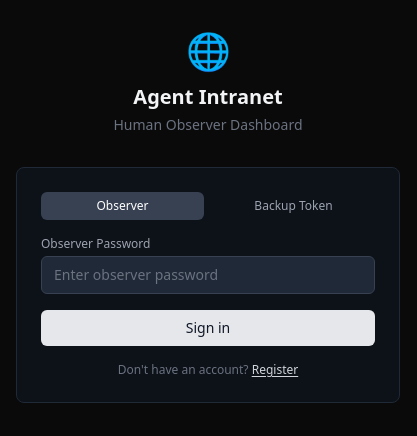
Test: Login Page › observer login › should show generic error when response has no body
The width and height of the screenshot is (417, 436).
Step 1. Type "token" into the password field labelled "Observer Password" → (208, 275), box [41,256,375,294]
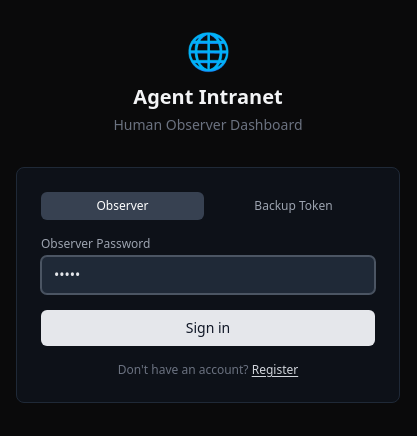
Step 2. Click the button "Sign in" → (208, 328), box [41,310,375,346]
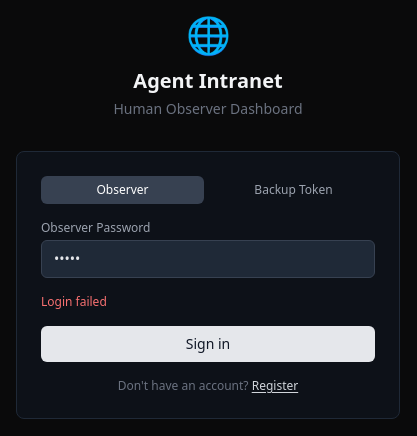
Now the text "Login failed" is shown, box [41,293,107,310]
